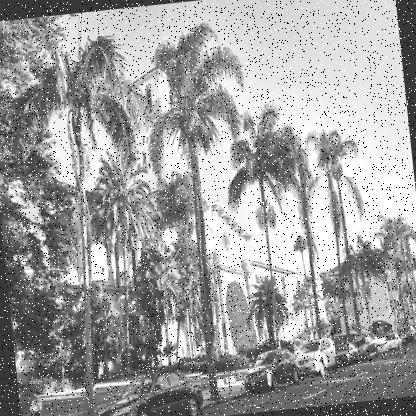Car: (93, 368, 205, 415), (242, 344, 300, 393), (292, 336, 337, 378), (17, 377, 46, 415), (333, 338, 364, 366), (353, 336, 379, 362), (385, 330, 403, 350), (397, 325, 415, 344)
